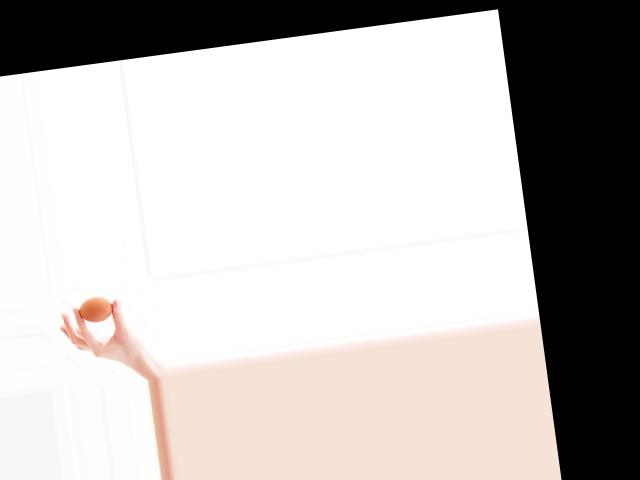egg: (77, 294, 114, 323)
